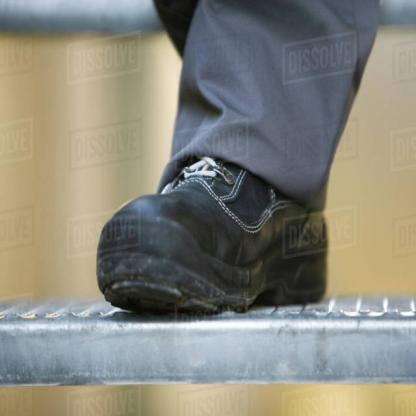bota: (92, 150, 334, 323)
